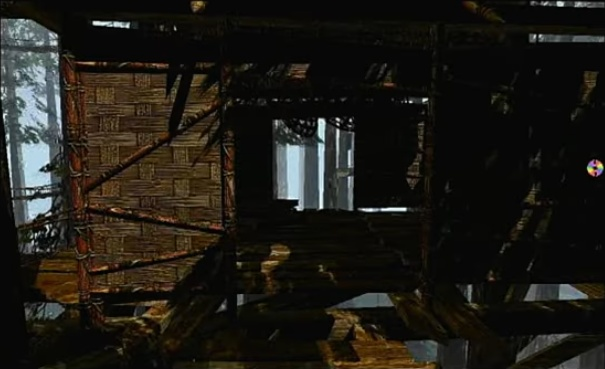Waiting: (583, 156, 605, 180)
